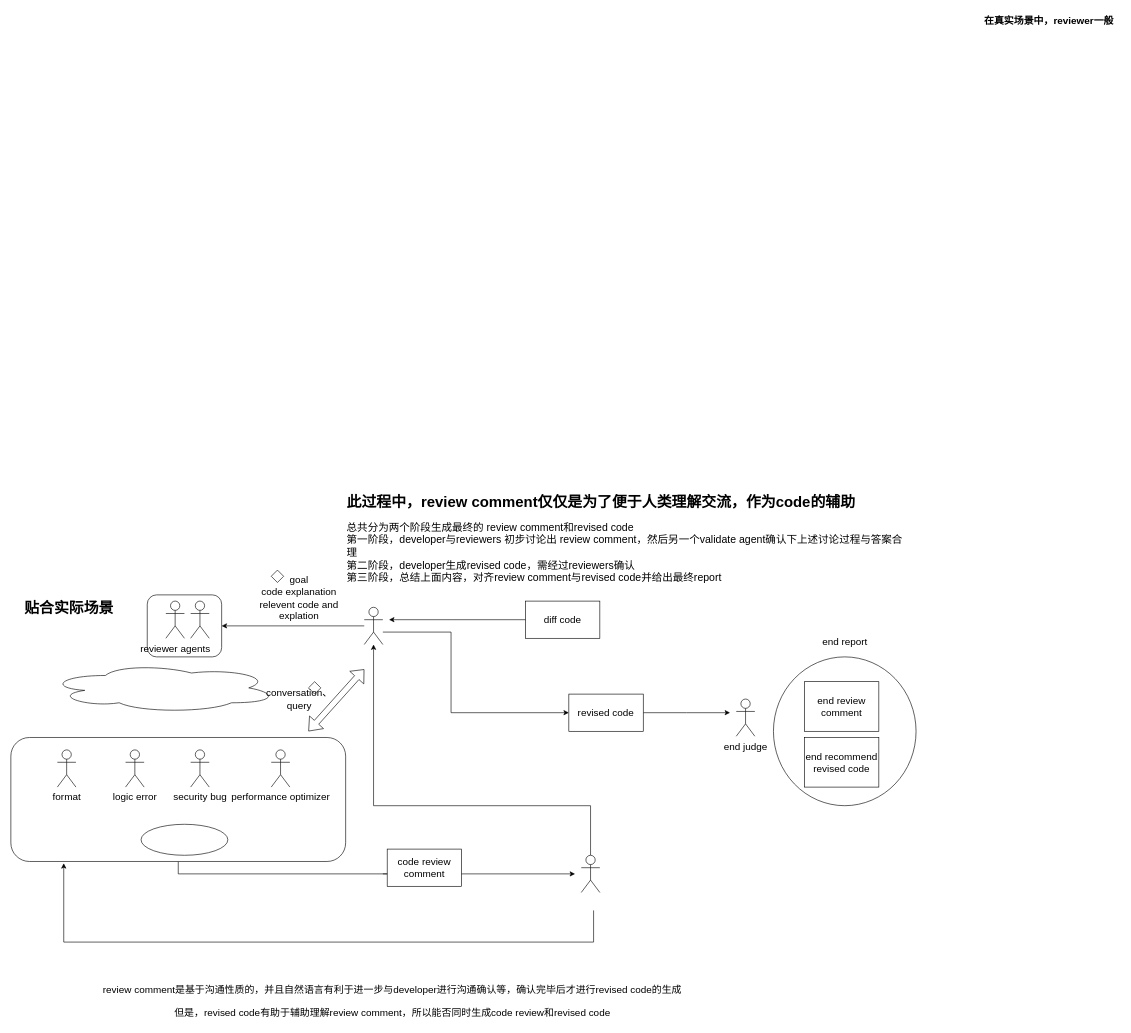
This 1131x1033 diagram has some shape labels left out. Each missing label, with the centre of its shape:
consensus: (x=184, y=839)
developer agent: (x=373, y=625)
review comment validator/evaluator: (x=590, y=873)
